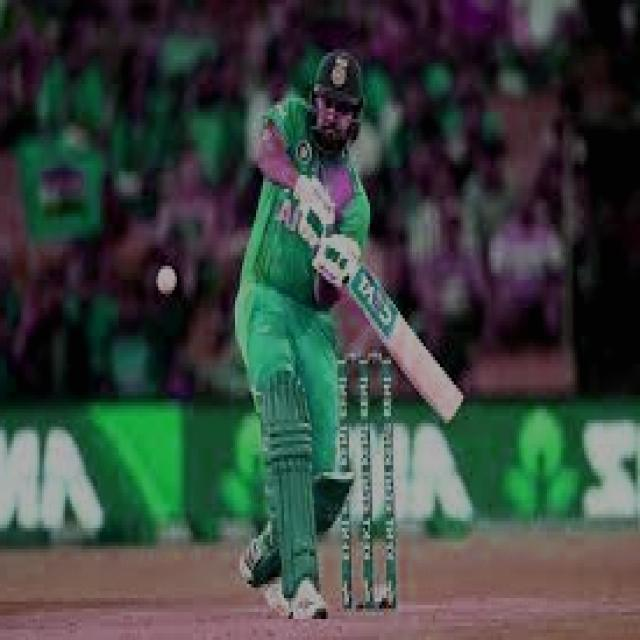toe: (443, 391, 465, 429)
